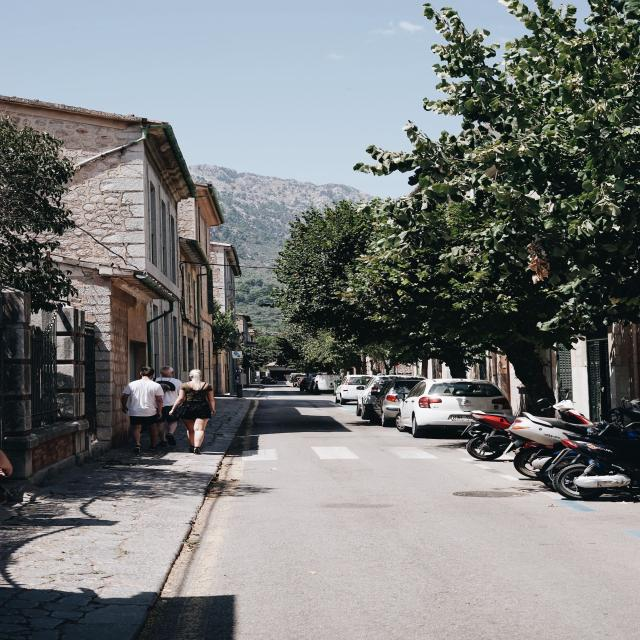adult: (168, 366, 218, 456), (119, 366, 164, 454), (156, 364, 182, 448)
